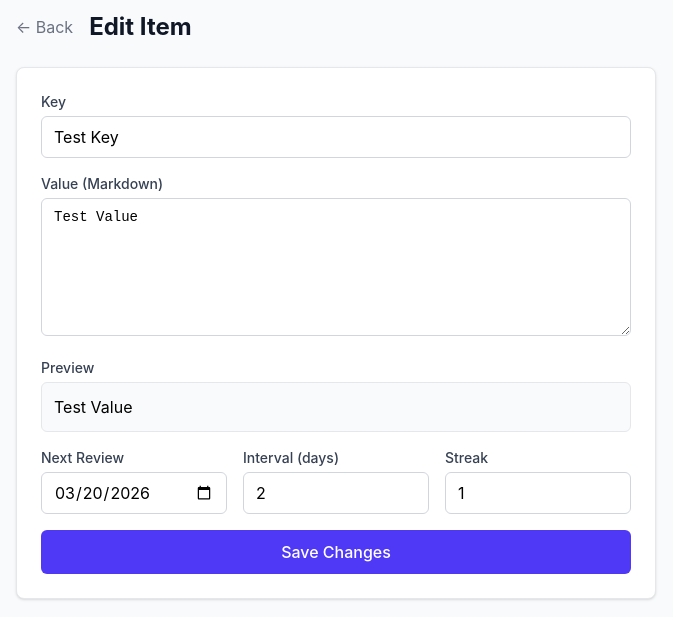
EditItemForm › shows error when value is empty on submit
Clear the text box labelled "Value (Markdown)" at (336, 267), box [41, 198, 631, 336]
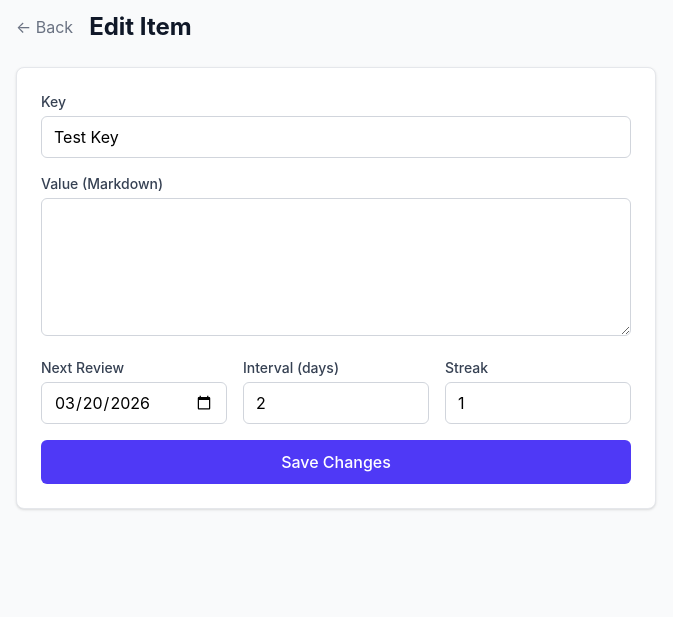
Click the button "Save Changes" at (336, 462), box [41, 440, 631, 484]
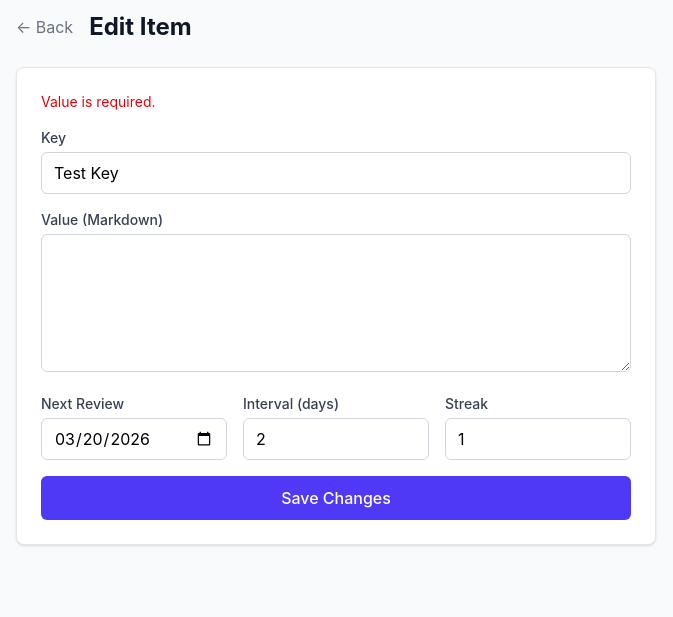
Check: the message reads "Value is required.", box [41, 93, 156, 110]
